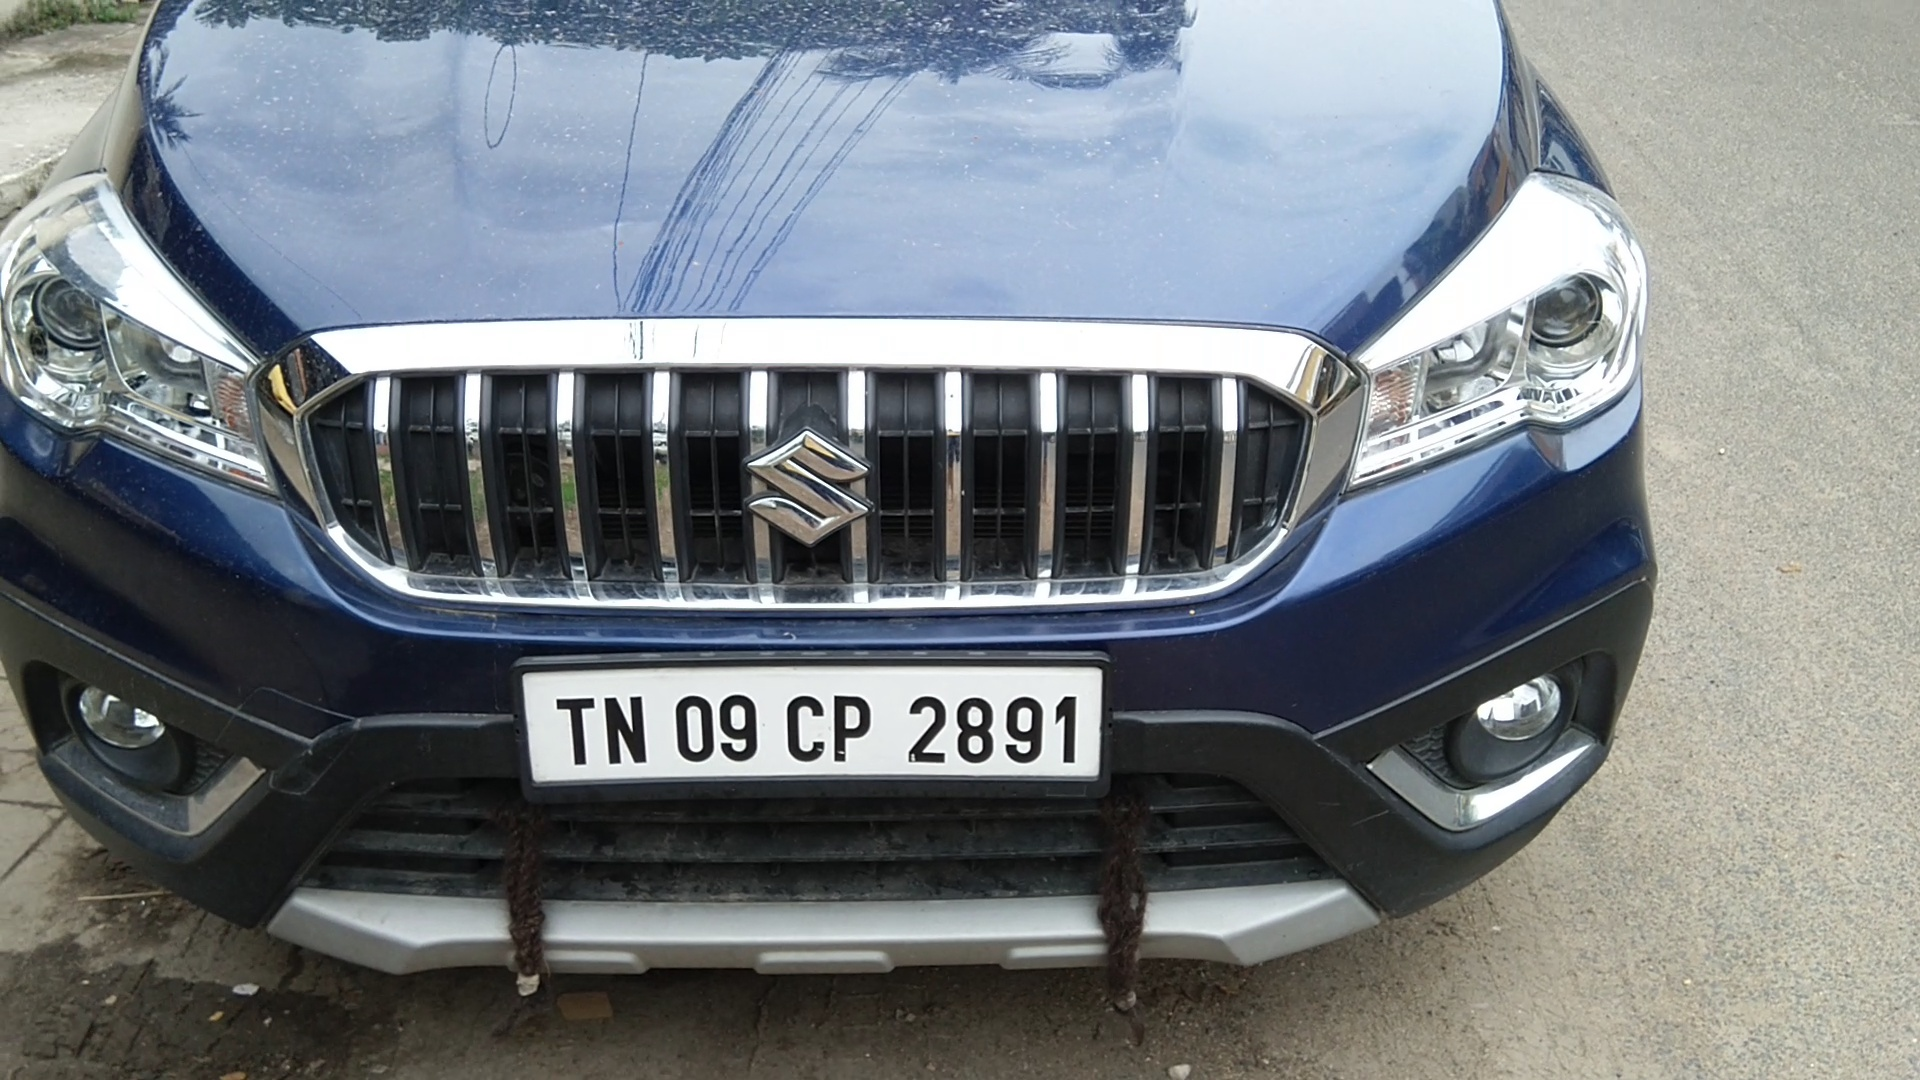front_grill: (270, 309, 1353, 649)
headlamp: (1356, 164, 1658, 498), (5, 156, 261, 516)
